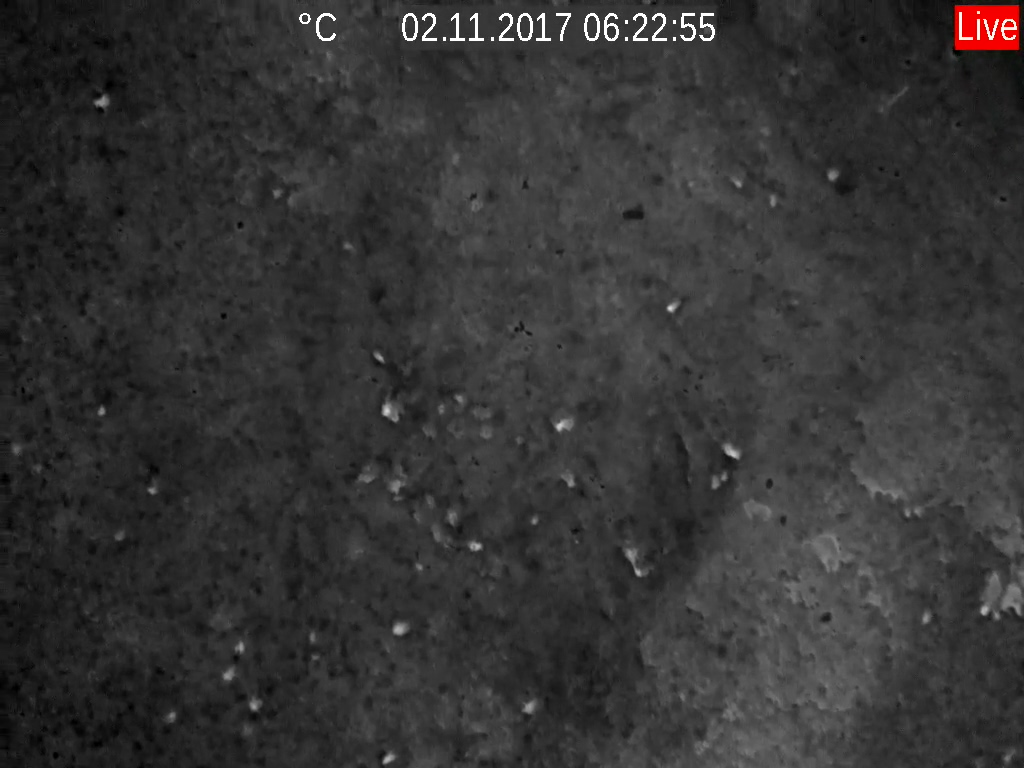warren: (877, 80, 913, 113), (386, 613, 414, 642), (717, 436, 745, 462), (549, 409, 574, 435), (368, 343, 390, 370), (663, 294, 688, 317), (377, 747, 399, 767), (763, 187, 781, 210), (464, 536, 486, 554), (977, 591, 992, 616)
